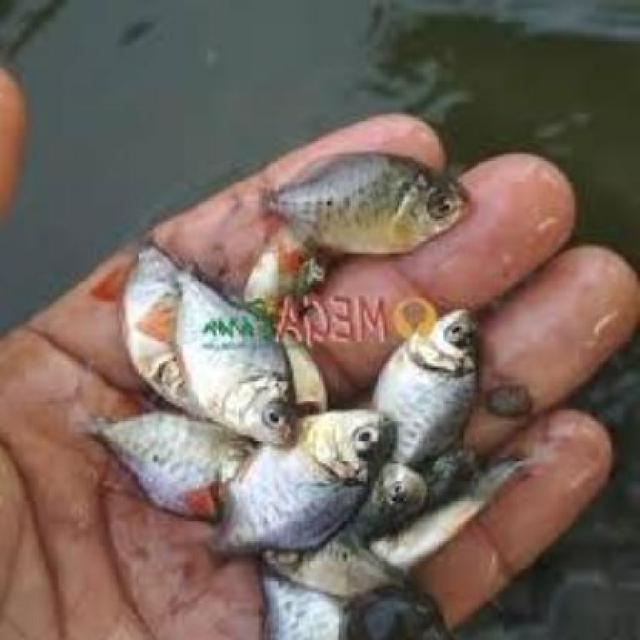ikan-pacu: (223, 408, 389, 552), (168, 264, 294, 430), (274, 150, 460, 259), (378, 304, 490, 468)
